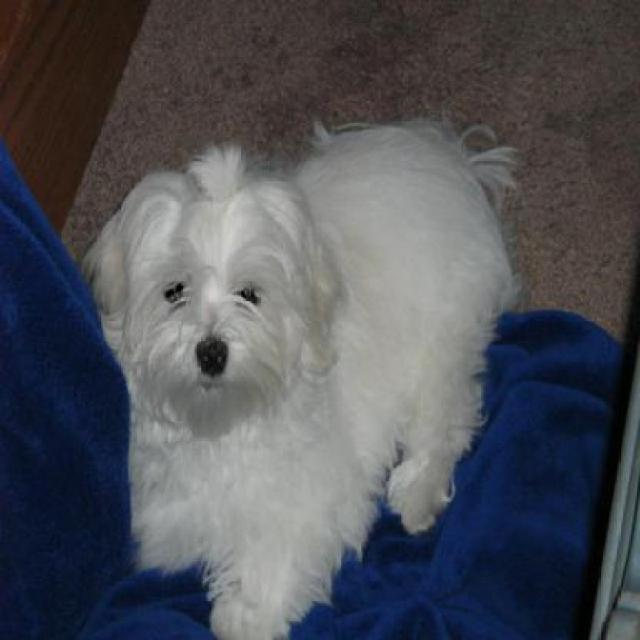Dog: (77, 101, 523, 638)
